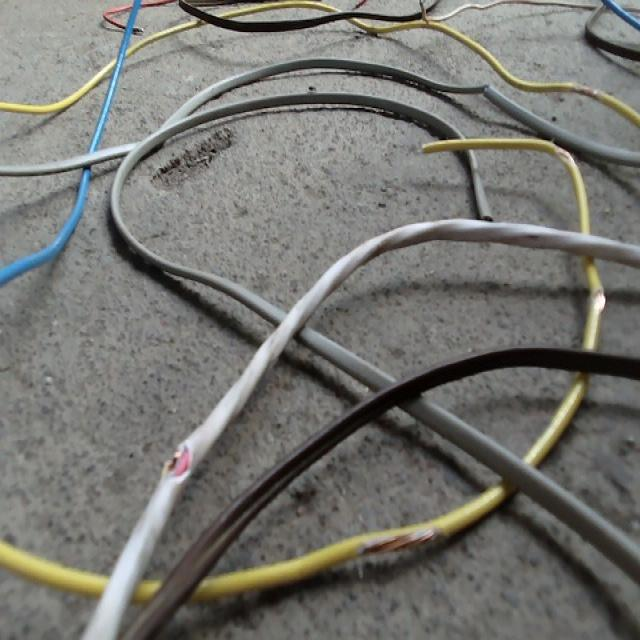-: (358, 527, 437, 553), (163, 440, 192, 481), (550, 140, 573, 167), (591, 284, 606, 313), (573, 83, 599, 97)
